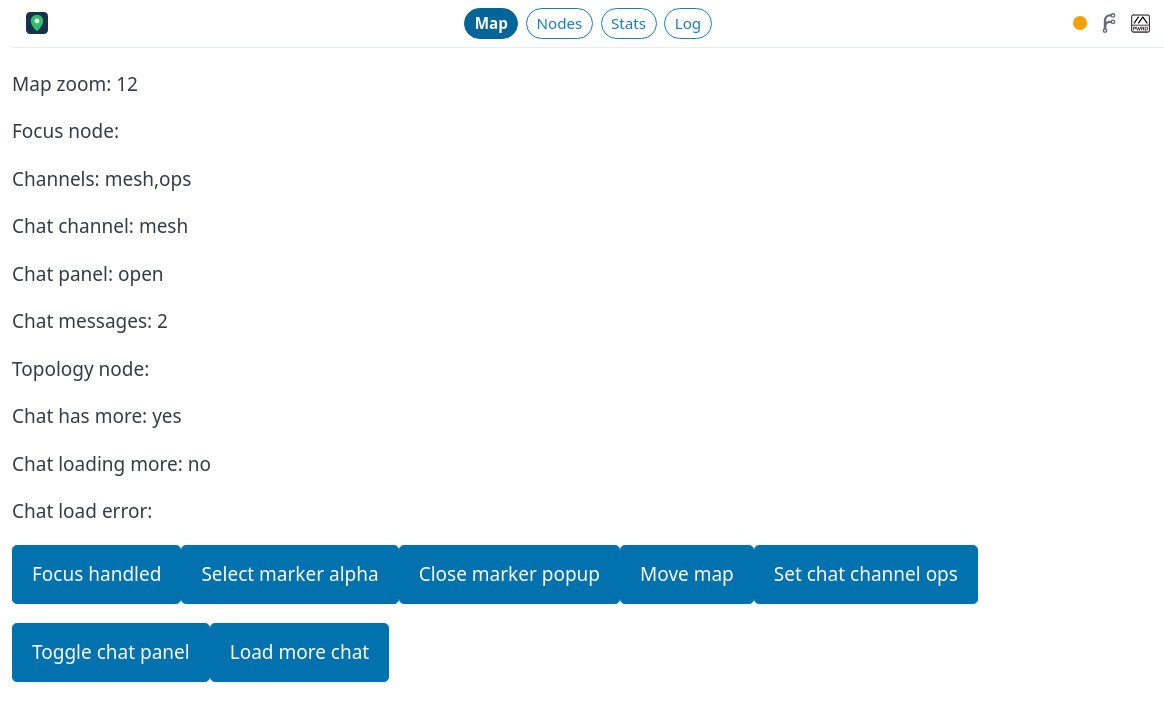
App › loads older chat messages from the oldest visible row and stops when the page is short
(page scrolled)
Check: the text "Chat messages: 2" is shown, box [12,308,168,334]
Check: the text "Chat has more: yes" is shown, box [12,403,182,429]
Click the button "Load more chat".
click(299, 652)  # box [210,622,389,682]
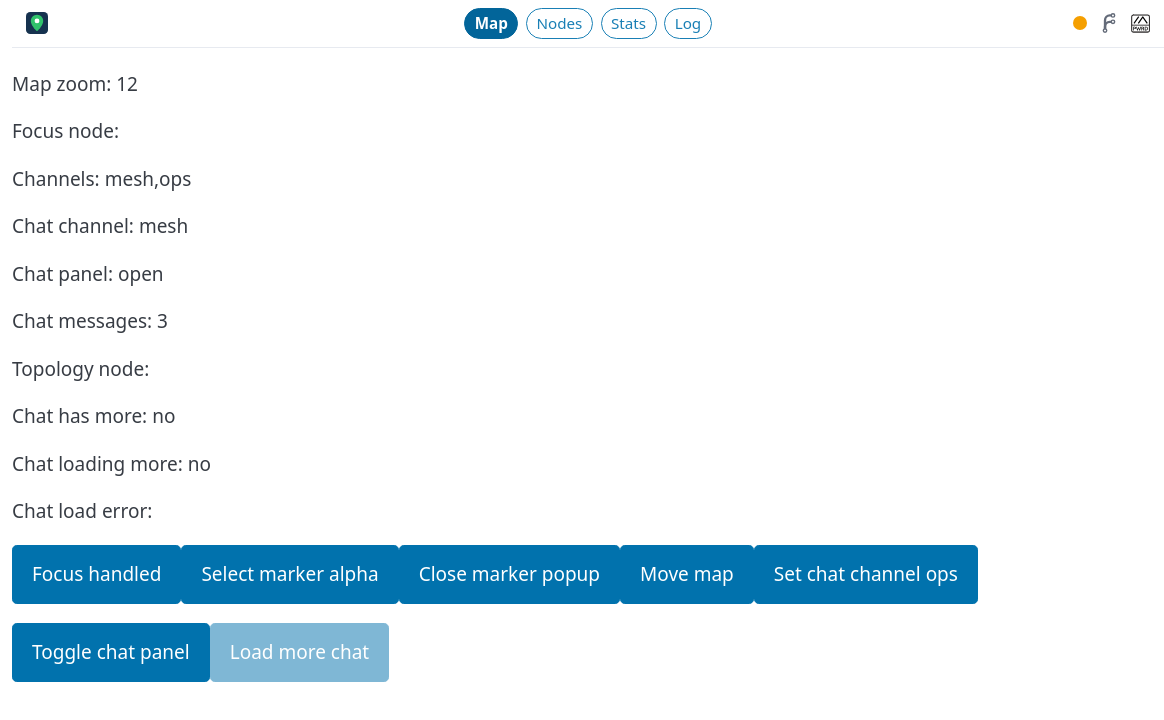
Check: the text "Chat messages: 3" is shown, box [12,308,168,334]
Check: the text "Chat has more: no" is shown, box [12,403,175,429]
